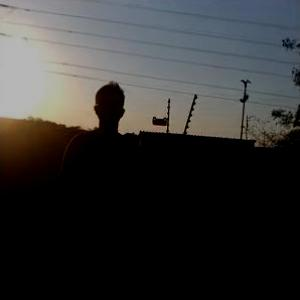follow: (47, 68, 137, 299)
